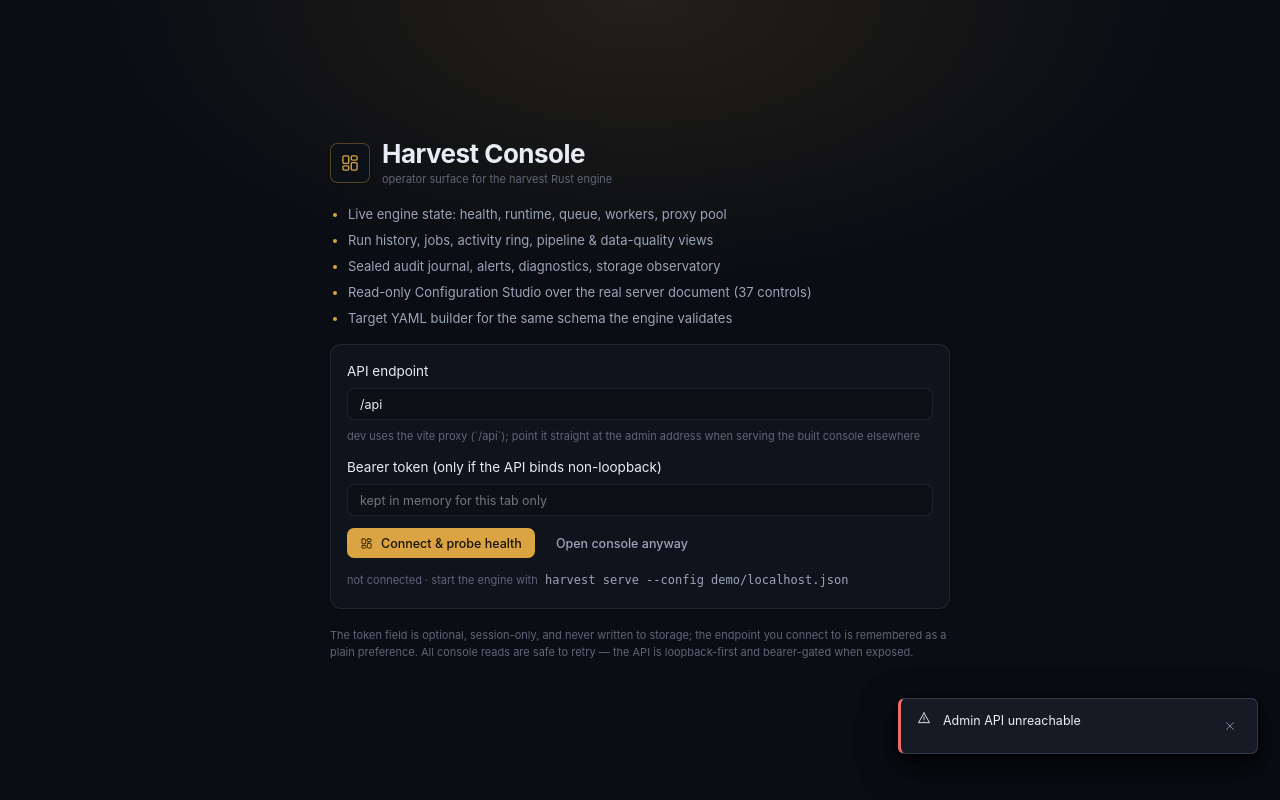
Test: first-run connect screen (§3) › blocks with a connect panel when the API is unreachable, and steps aside on demand
Expected: the heading "Harvest Console" is shown, [382,139,612,169]
Expected: the field labelled "API endpoint" holds "/api", [347,388,933,420]
Click the button "Open console anyway": (622, 543) [543,528,701,558]
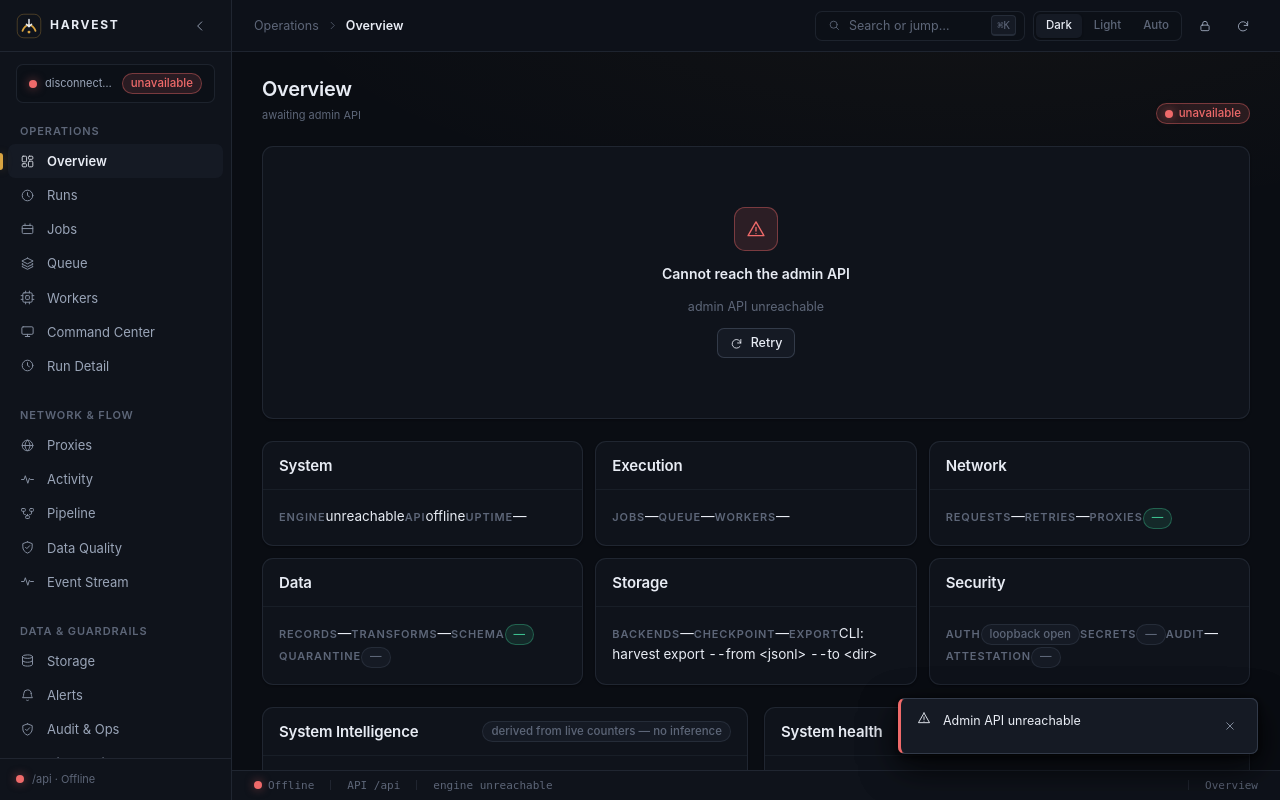
Expected: the navigation bar with class "rail" is shown, [0,0,232,799]
